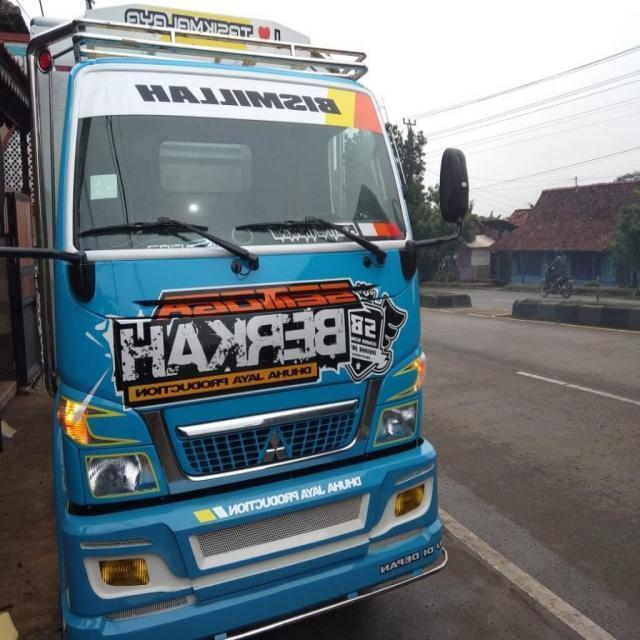truck: (11, 22, 480, 633)
